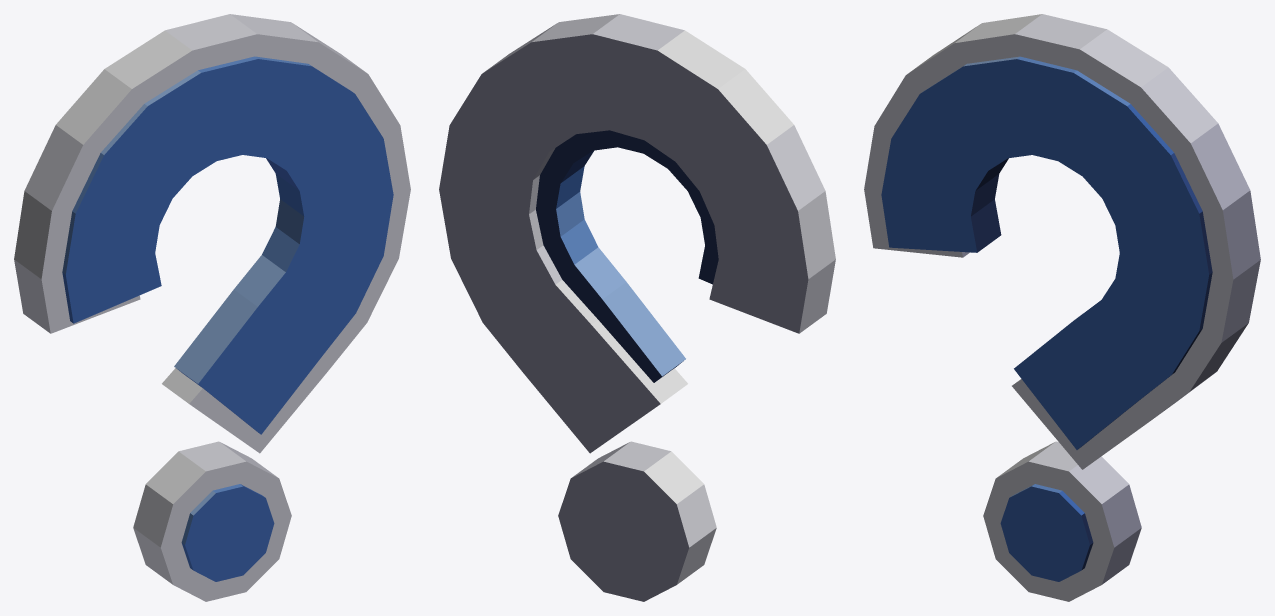
File: emote_question.glb
The picture shows the model from 3 angles, left to right: view 1: azimuth 30°, elevation 25°; view 2: azimuth 150°, elevation 25°; view 3: azimuth 330°, elevation 25°; orthographic projection.
Parts seen in each view (by area): view 1: emote_question; view 2: emote_question; view 3: emote_question.
Boxes of the visible parts, x1,y1,x2,y2 form: emote_question: (14,14,410,601); emote_question: (439,14,835,601); emote_question: (864,14,1260,601).
Size of the model in its own units: 0.6197 by 0.8902 by 0.09.
